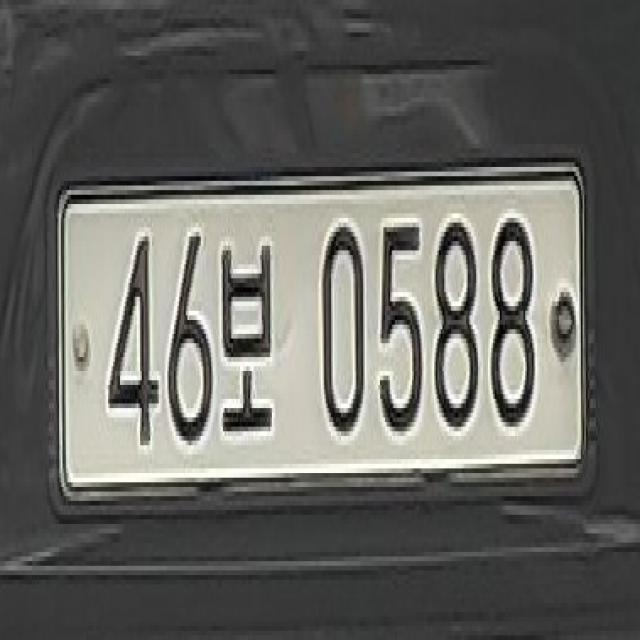0: (314, 218, 371, 453)
4: (100, 219, 164, 488)
5: (376, 216, 427, 447)
6: (166, 218, 218, 484)
8: (429, 220, 482, 452), (487, 214, 540, 442)
bo: (218, 223, 280, 474)
license_plate: (47, 168, 595, 508)
